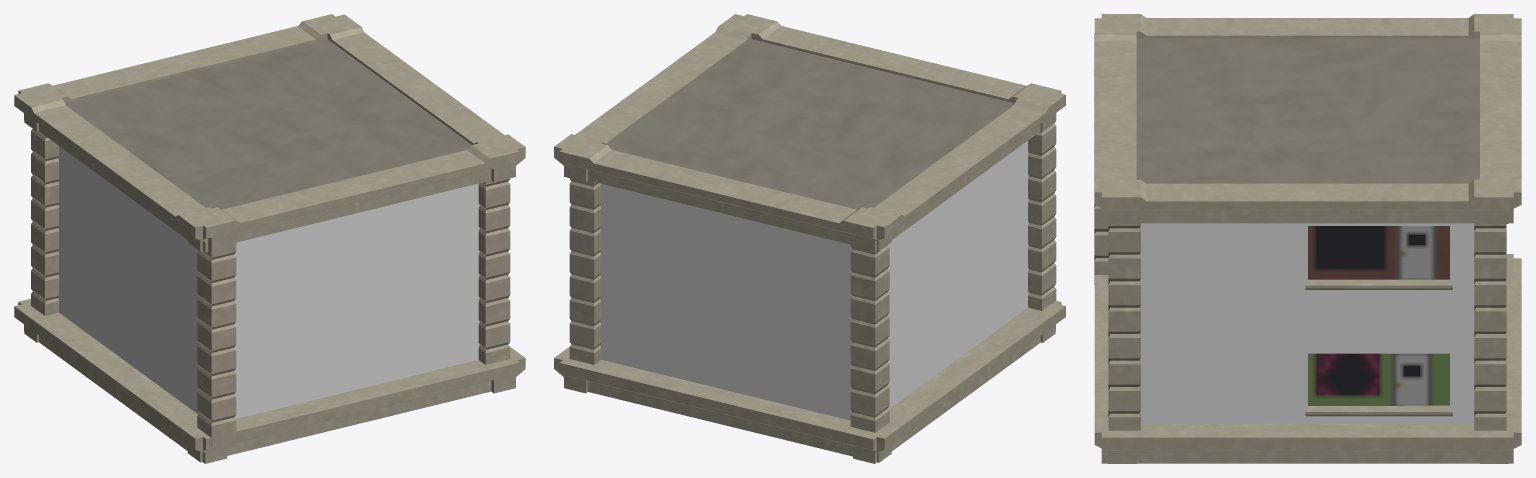
The model's file is Building_Modular_Top.fbx.
3 renders of one model, left to right at view 1: azimuth 30°, elevation 25°; view 2: azimuth 150°, elevation 25°; view 3: azimuth 270°, elevation 25°, orthographic. The views are drawn at different scales.
Parts seen in each view (by area): view 1: Building_Modular_Top; view 2: Building_Modular_Top; view 3: Building_Modular_Top.
Boxes of the visible parts, x1,y1,x2,y2 form: Building_Modular_Top: [14, 14, 525, 463]; Building_Modular_Top: [554, 14, 1065, 463]; Building_Modular_Top: [1094, 14, 1521, 463].
Size of the model in its own units: 1457 by 1006 by 1435.
